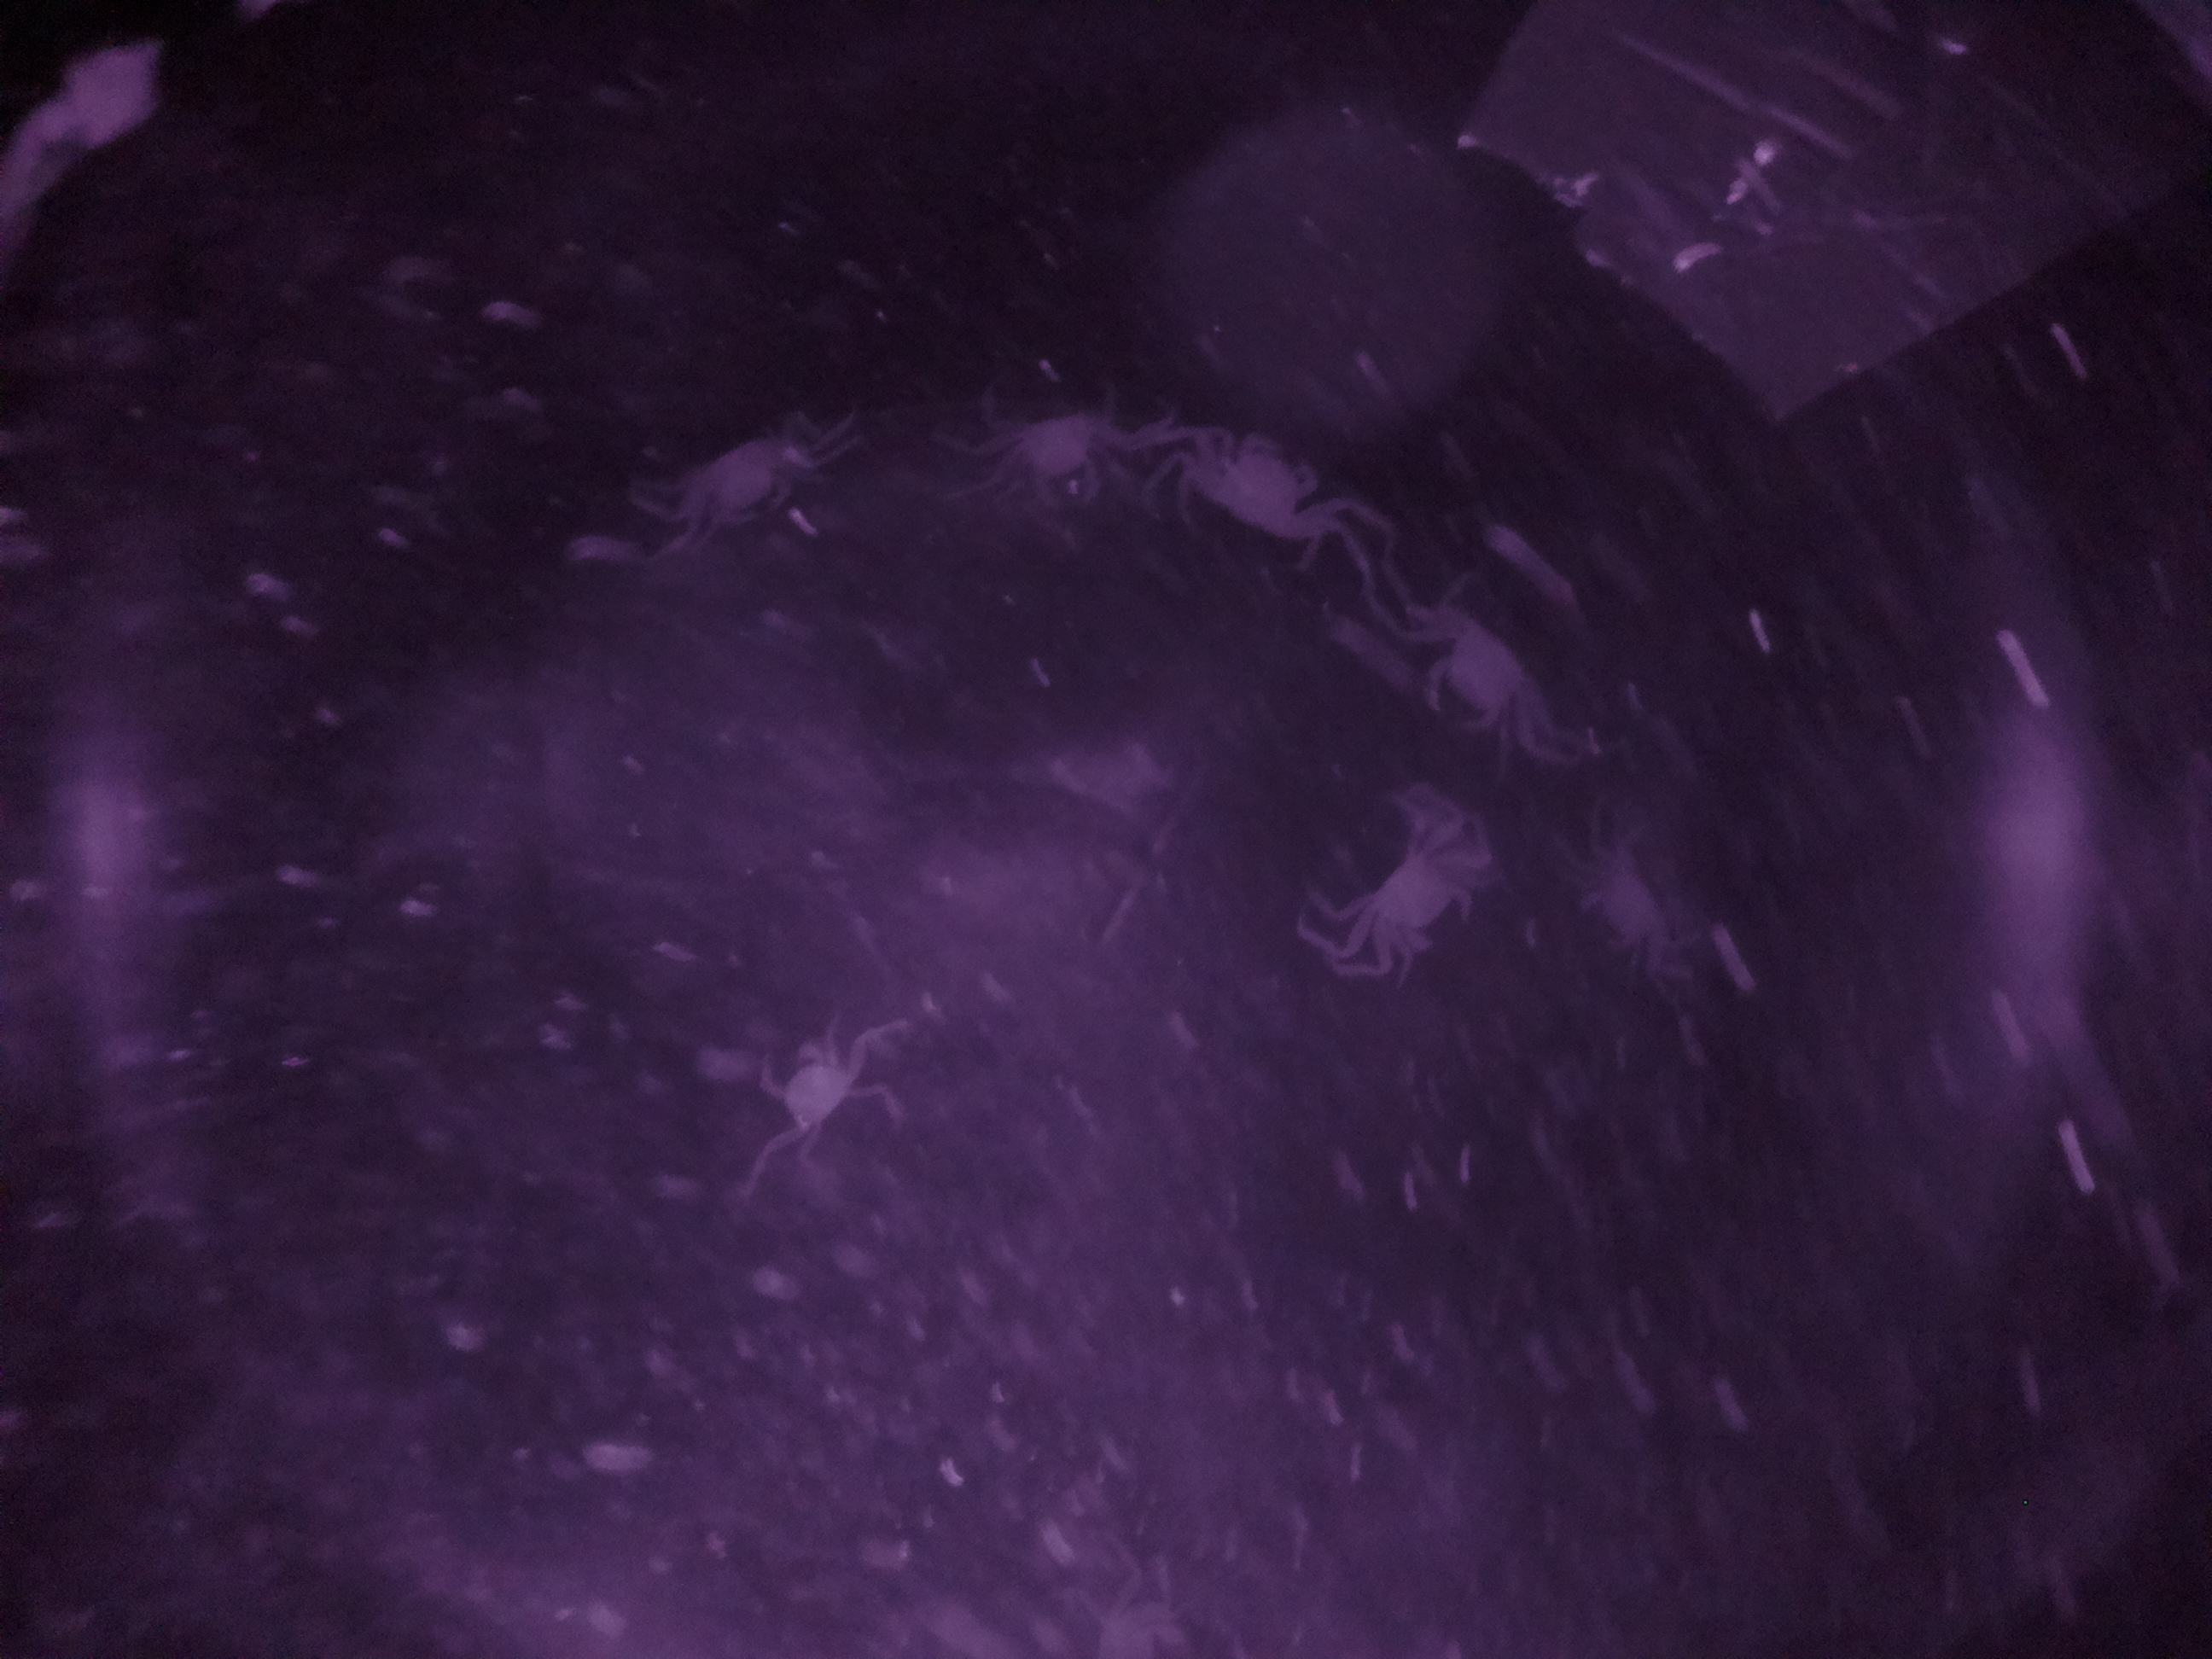Crab: (1186, 415, 1346, 563), (1338, 817, 1479, 983), (1406, 608, 1545, 751)
